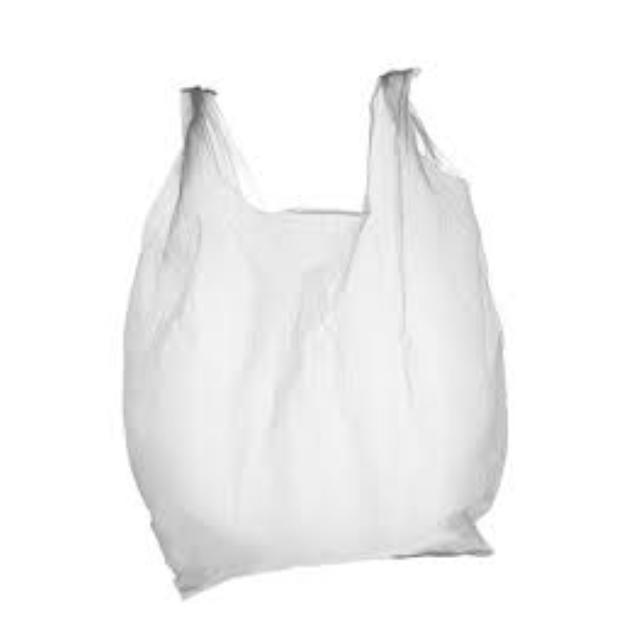Bolsa-de-plastico: (119, 72, 513, 598)
